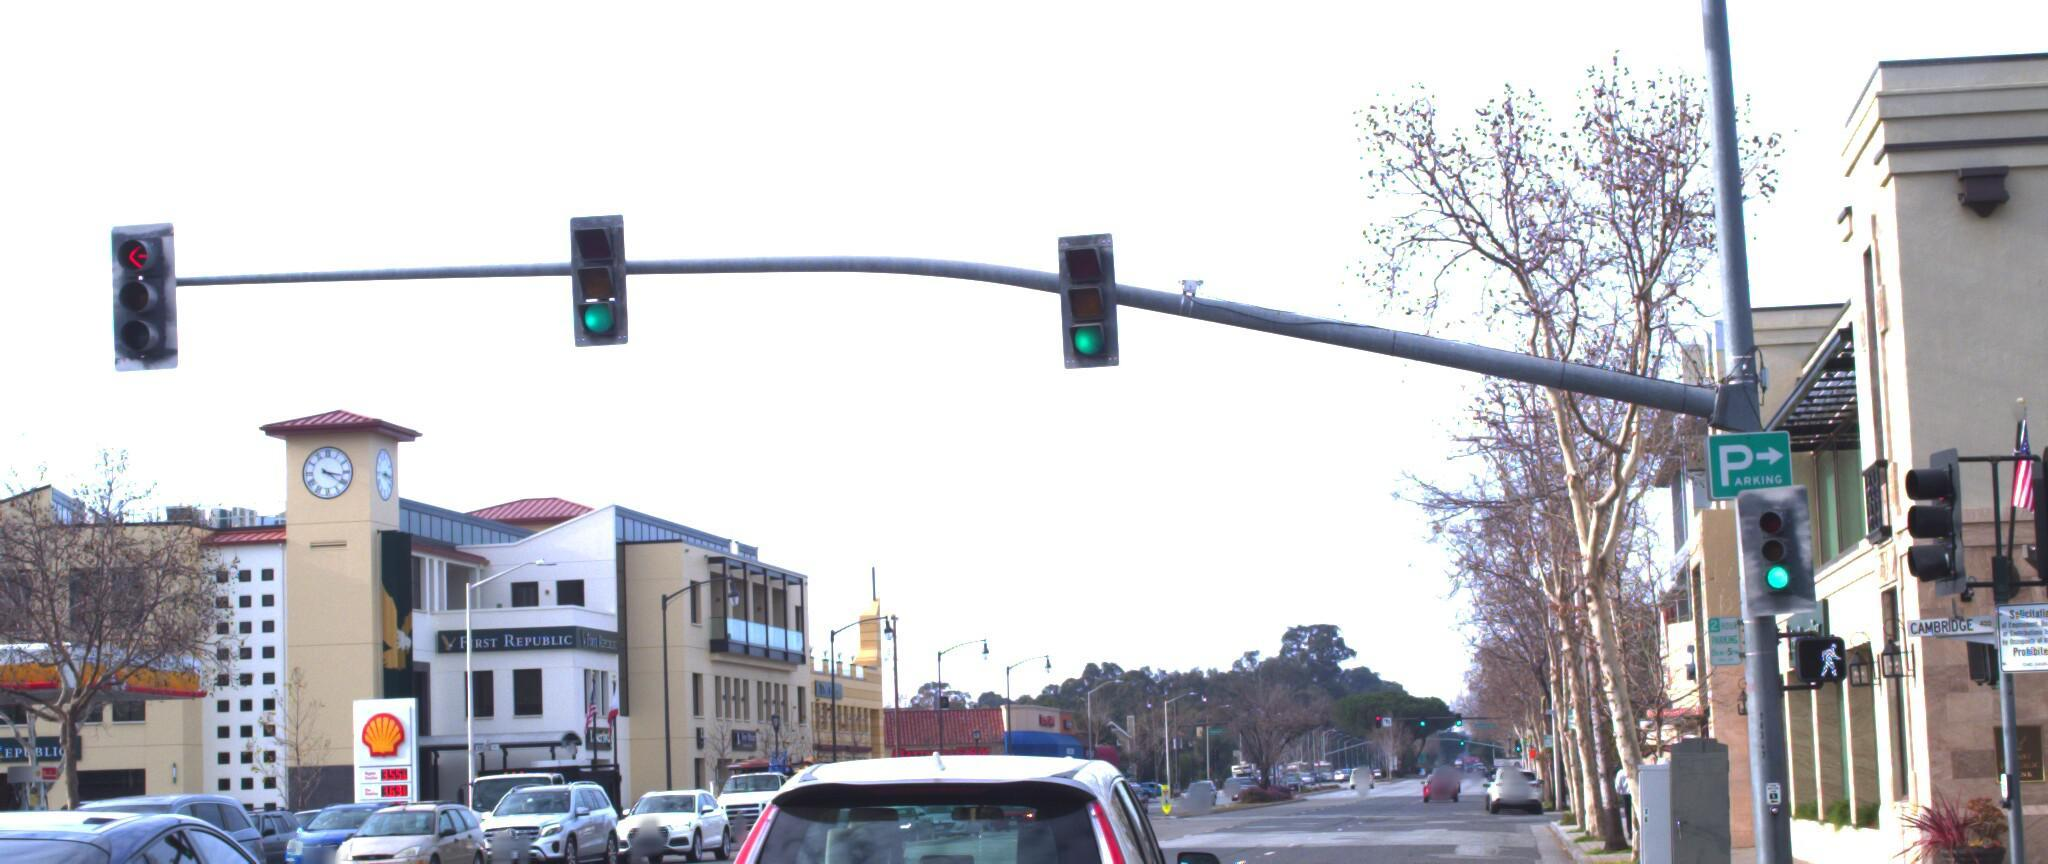car: (682, 733, 1213, 864), (0, 797, 396, 864), (0, 784, 272, 864), (470, 779, 627, 864), (315, 795, 486, 864), (597, 784, 726, 864), (253, 801, 394, 864)
truck: (456, 752, 627, 864)
